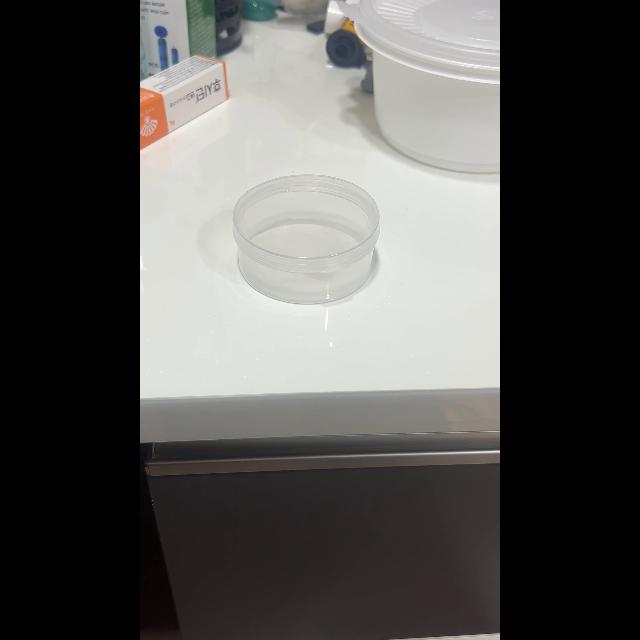clean: (232, 174, 382, 304)
